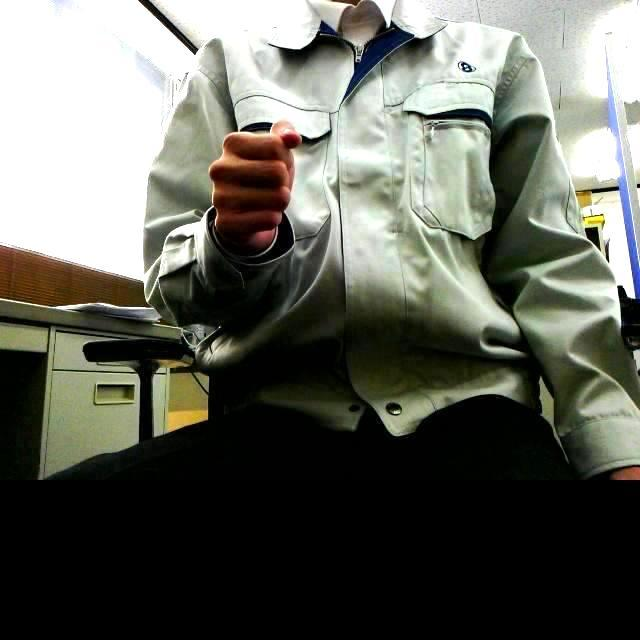gu-: (209, 120, 302, 235)
